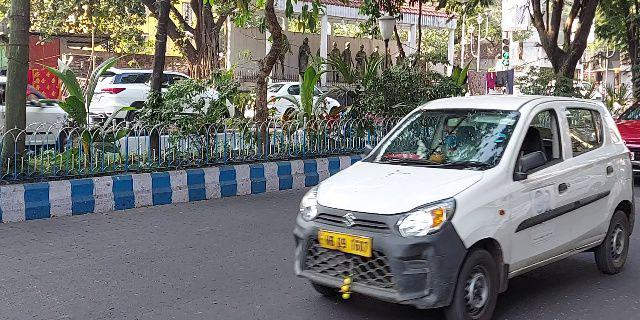Car: (284, 91, 634, 320)
